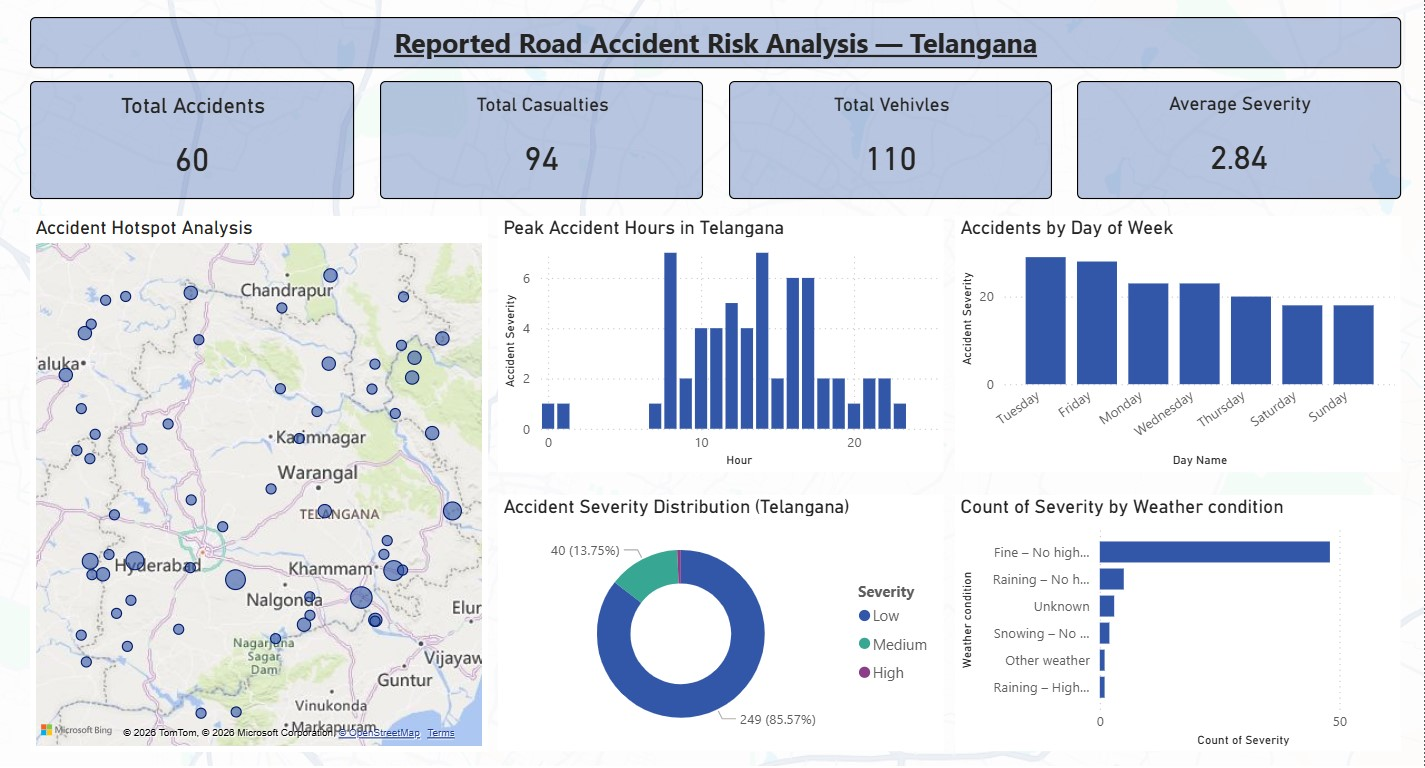

What the dashboard file says about the page in this screenshot:
{"tool":"powerbi","page":{"name":"Road Accident in TG","canvas":[1280,720],"ordinal":0},"visuals":[{"type":"card","title":"Total Accidents","fields":{"Values":["CountNonNull(AccidentsBig.Accident_Severity)"]},"box":[27.9,102.8,290.7,106.2],"z":0},{"type":"card","title":"Total Casualties","fields":{"Values":["Sum(AccidentsBig.Number_of_Casualties)"]},"box":[341.8,103.1,290,106.2],"z":1000},{"type":"card","title":"Total Vehivles","fields":{"Values":["Sum(AccidentsBig.Number_of_Vehicles)"]},"box":[654.9,103.1,290,106.2],"z":2000},{"type":"card","title":"Average Severity","fields":{"Values":["Avg(AccidentsBig.Accident_Severity)"]},"box":[968.1,102.8,290.7,106.2],"z":3000},{"type":"map","title":"Accident Hotspot Analysis","fields":{"Y":["AccidentsBig.latitude"],"X":["AccidentsBig.longitude"],"Size":["Sum(AccidentsBig.Number_of_Casualties)"]},"box":[27.9,224.7,411.4,480.7],"z":4000},{"type":"textbox","box":[28.1,45.8,1231,45.8],"z":5000},{"type":"clusteredColumnChart","title":"Peak Accident Hours in Telangana","fields":{"Category":["AccidentsBig.Hour"],"Y":["CountNonNull(AccidentsBig.Accident_Severity)"]},"box":[448.3,224.7,400.2,230],"z":6000},{"type":"clusteredColumnChart","title":"Accidents by Day of Week","fields":{"Y":["Sum(AccidentsBig.Accident_Severity)"],"Category":["AccidentsBig.Day Name"]},"box":[858.6,224.7,400.2,230],"z":7000},{"type":"donutChart","title":"Accident Severity Distribution (Telangana)","fields":{"Y":["Sum(AccidentsBig.Accident_Severity)"],"Category":["AccidentsBig.Severity Name"]},"box":[448.3,475.1,400.2,230.3],"z":8000},{"type":"clusteredBarChart","fields":{"Y":["CountNonNull(AccidentsBig.Severity Name)"],"Category":["AccidentsBig.Weather condition"]},"box":[858.6,475.1,400.2,230.3],"z":9000}]}

Visuals, with their boxes on the page's 1280x720 design canvas (x1, y1, x2, y2). These are canvas units, not pixel positions in the 1425x768 screenshot, which may show the page scaled, cropped or inside an application window:
"Total Accidents" card: rect(28, 103, 319, 209)
"Total Casualties" card: rect(342, 103, 632, 209)
"Total Vehivles" card: rect(655, 103, 945, 209)
"Average Severity" card: rect(968, 103, 1259, 209)
"Accident Hotspot Analysis" map: rect(28, 225, 439, 705)
textbox: rect(28, 46, 1259, 92)
"Peak Accident Hours in Telangana" clusteredColumnChart: rect(448, 225, 848, 455)
"Accidents by Day of Week" clusteredColumnChart: rect(859, 225, 1259, 455)
"Accident Severity Distribution (Telangana)" donutChart: rect(448, 475, 848, 705)
clusteredBarChart - CountNonNull(AccidentsBig.Severity Name) x AccidentsBig.Weather condition: rect(859, 475, 1259, 705)
